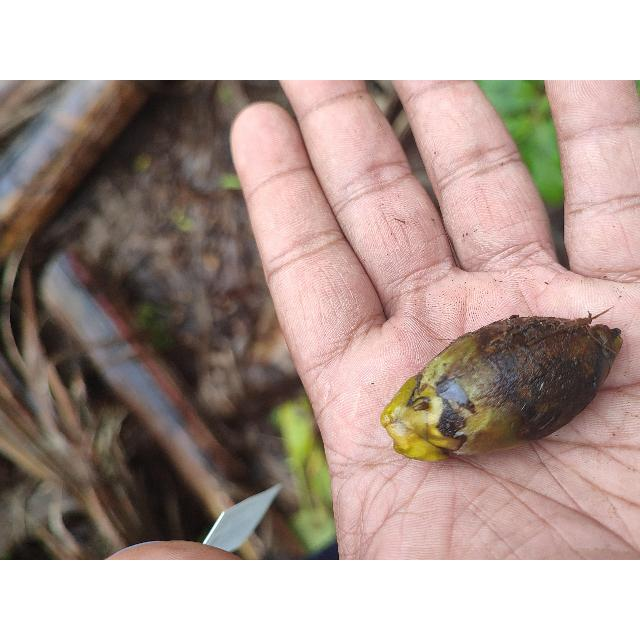damaged: (377, 316, 623, 465)
